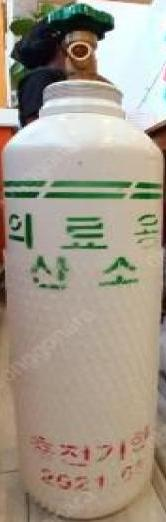cylinder: (0, 1, 166, 522)
